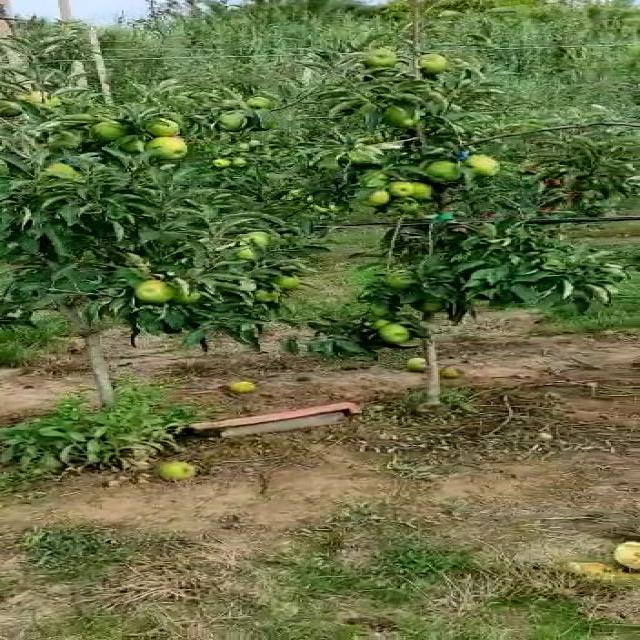100-_ripeness: (135, 279, 178, 306), (36, 159, 82, 182), (147, 138, 193, 160), (89, 120, 131, 143), (418, 160, 456, 184), (465, 152, 500, 177), (418, 56, 453, 78), (384, 103, 414, 128), (374, 324, 412, 343), (362, 48, 389, 72), (145, 118, 180, 136), (243, 94, 274, 112), (234, 250, 264, 266), (387, 178, 415, 195), (242, 233, 276, 247), (362, 185, 387, 204), (274, 276, 302, 291), (413, 185, 440, 200), (220, 111, 240, 130)
